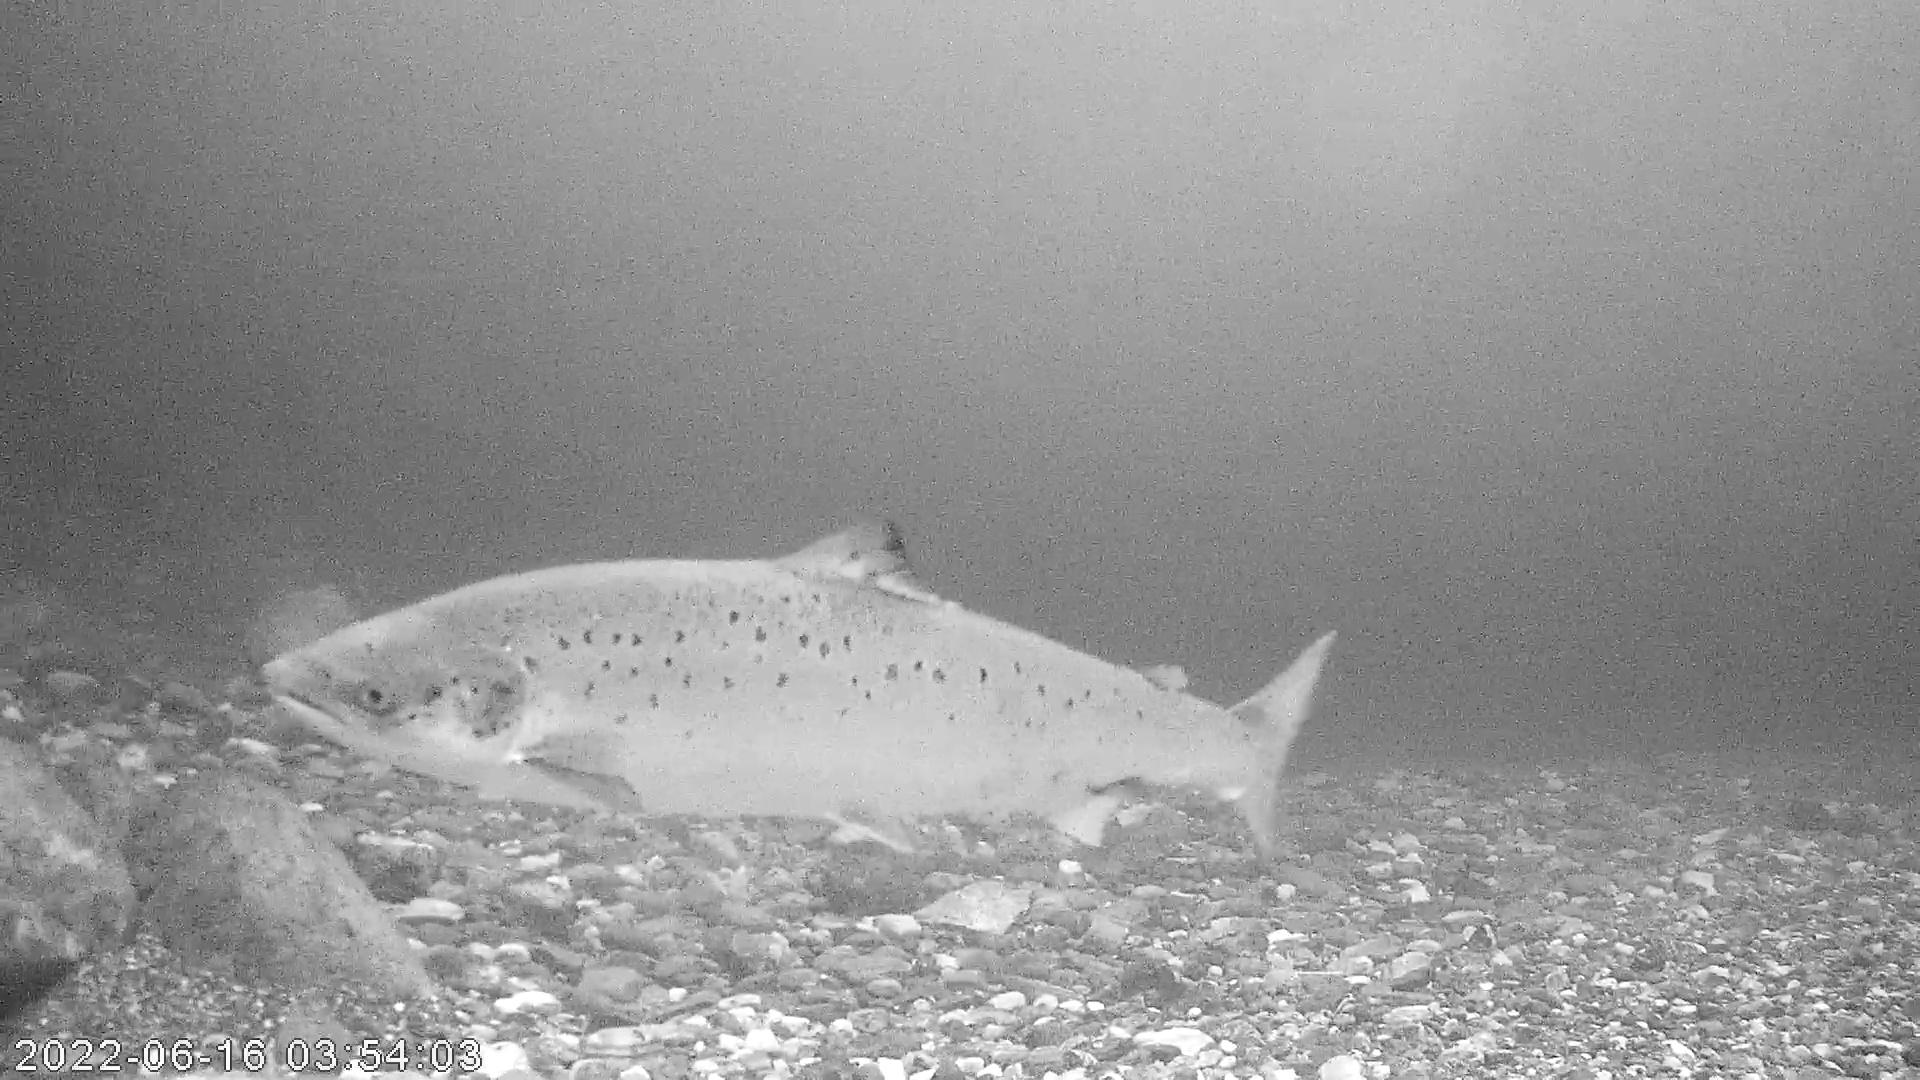salmon: (260, 514, 1340, 862)
